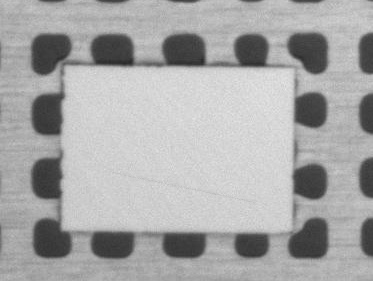DIE_CRACK: (149, 130, 338, 152)
